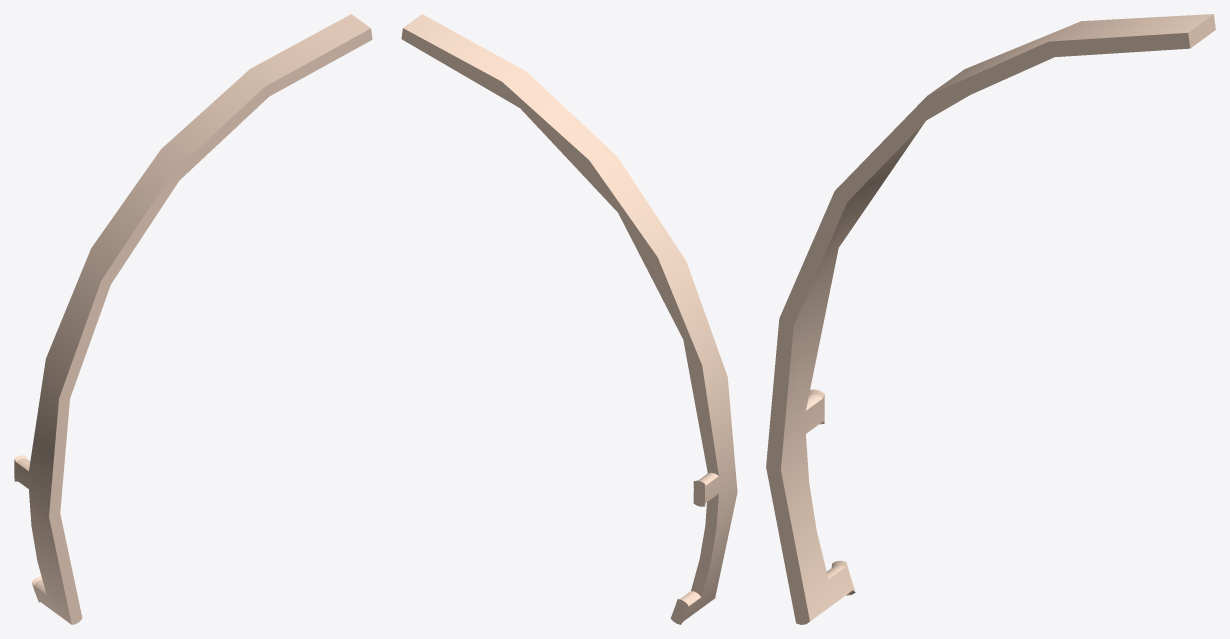
The model's file is Ressort barillet Mouvement.obj.
3 views of the same model, side by side, from view 1: azimuth 30°, elevation 25°; view 2: azimuth 150°, elevation 25°; view 3: azimuth 330°, elevation 25° (orthographic). The views are drawn at different scales.
Visible parts, largest first — view 1: Face_9, Face_10; view 2: Face_9, Face_6, Face_5; view 3: Face_10, Face_7, Face_9.
Part boxes in pixels (box(x1,y1,x2,y2)): Face_9: box(14, 14, 370, 624); Face_10: box(49, 28, 372, 624); Face_9: box(403, 14, 737, 624); Face_6: box(401, 28, 718, 475); Face_5: box(691, 493, 718, 596); Face_10: box(766, 33, 1190, 624); Face_7: box(781, 95, 968, 621); Face_9: box(928, 14, 1213, 95).
Size of the model in its own units: 0.0287 by 0.0445 by 0.0052.
